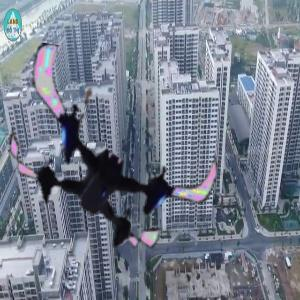drone: (3, 55, 224, 276)
